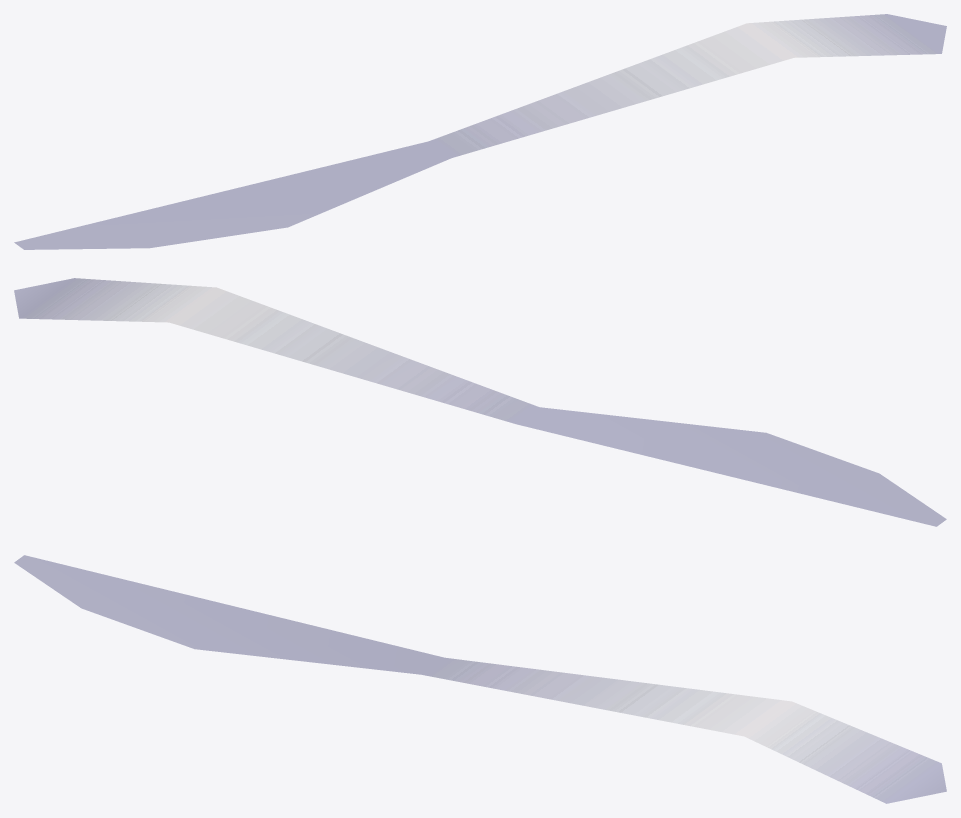
Rendered from utensil-knife.glb.
The picture shows the model from 3 angles, top to bottom: view 1: azimuth 30°, elevation 25°; view 2: azimuth 150°, elevation 25°; view 3: azimuth 330°, elevation 25°; orthographic projection.
Visible parts, largest first — view 1: utensil-knife; view 2: utensil-knife; view 3: utensil-knife.
Boxes of the visible parts, <box> form: utensil-knife: <box>14,14,946,249</box>; utensil-knife: <box>14,278,946,526</box>; utensil-knife: <box>14,555,946,803</box>.
Size of the model in its own units: 0.6008 by 0.0178 by 0.0778.
Materials: 1 (1 with a texture image).
